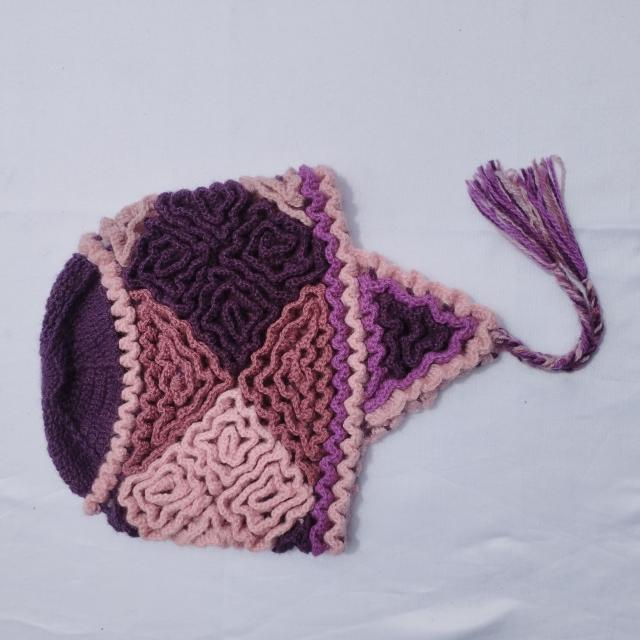Gorro: (38, 154, 604, 557)
